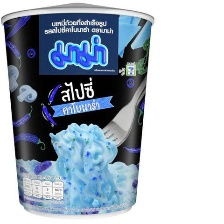paper_cup: (0, 0, 159, 224)
